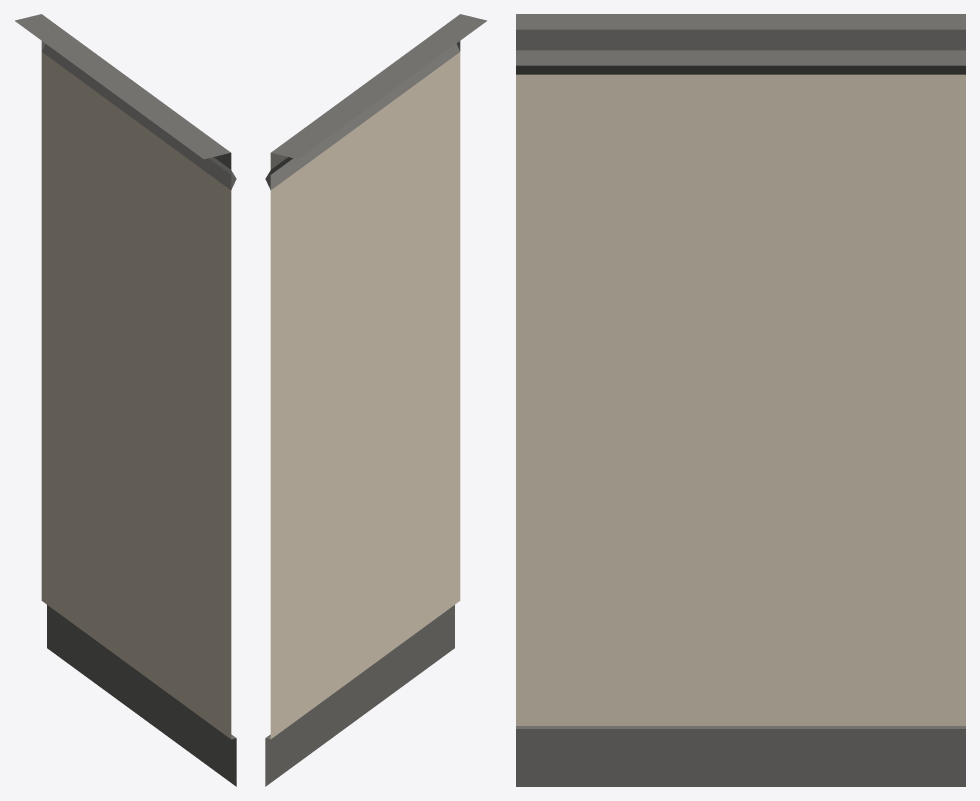
The model's file is g_o_PrisonWall.fbx.
The picture shows the model from 3 angles, left to right: view 1: azimuth 30°, elevation 25°; view 2: azimuth 150°, elevation 25°; view 3: azimuth 270°, elevation 25°; orthographic projection. The views are drawn at different scales.
Parts seen in each view (by area): view 1: g_o_PrisonWall; view 2: g_o_PrisonWall; view 3: g_o_PrisonWall.
Part boxes in pixels (box(x1,y1,x2,y2)): g_o_PrisonWall: box(15, 14, 236, 786); g_o_PrisonWall: box(265, 14, 486, 786); g_o_PrisonWall: box(516, 14, 965, 786).
Bounding box in the file's own units: 9.99 × 185 × 100.
